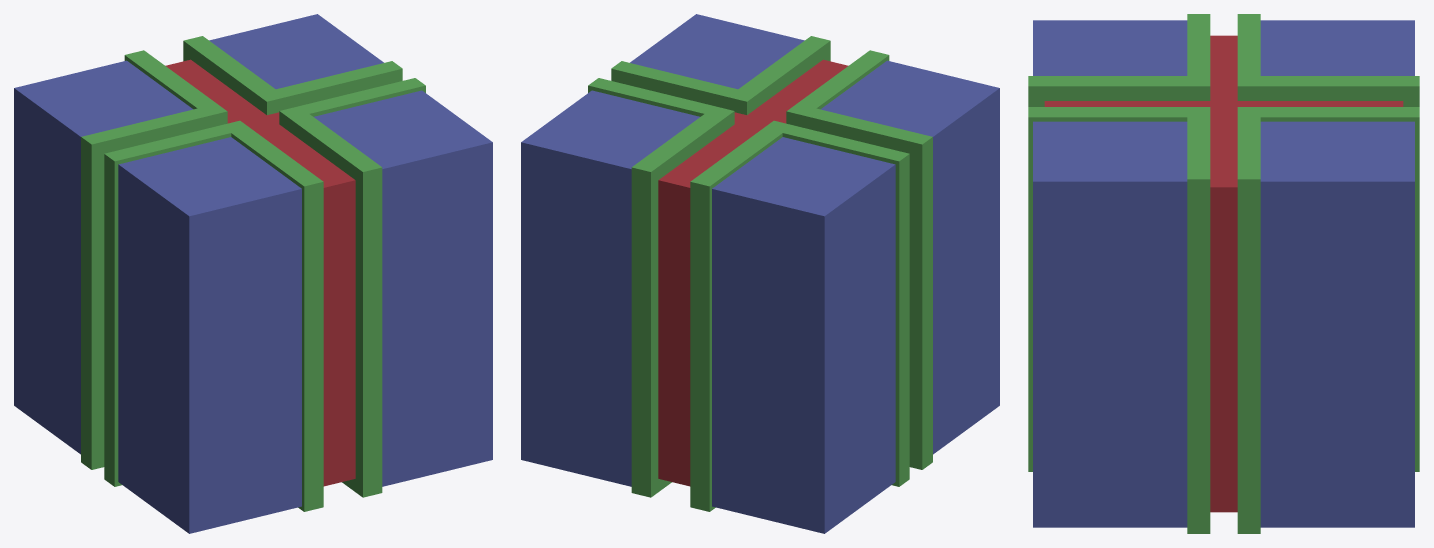
The model's file is SM_MovingPlatform_01.fbx.
3 views of the same model, side by side, from view 1: azimuth 30°, elevation 25°; view 2: azimuth 150°, elevation 25°; view 3: azimuth 270°, elevation 25° (orthographic). The views are drawn at different scales.
Visible parts, largest first — view 1: SM_MovingPlatform_01; view 2: SM_MovingPlatform_01; view 3: SM_MovingPlatform_01.
Boxes of the visible parts, bbox=[...] form: SM_MovingPlatform_01: bbox=[14, 14, 492, 533]; SM_MovingPlatform_01: bbox=[521, 14, 999, 533]; SM_MovingPlatform_01: bbox=[1028, 14, 1419, 533].
Bounding box in the file's own units: 205 × 205 × 205.
